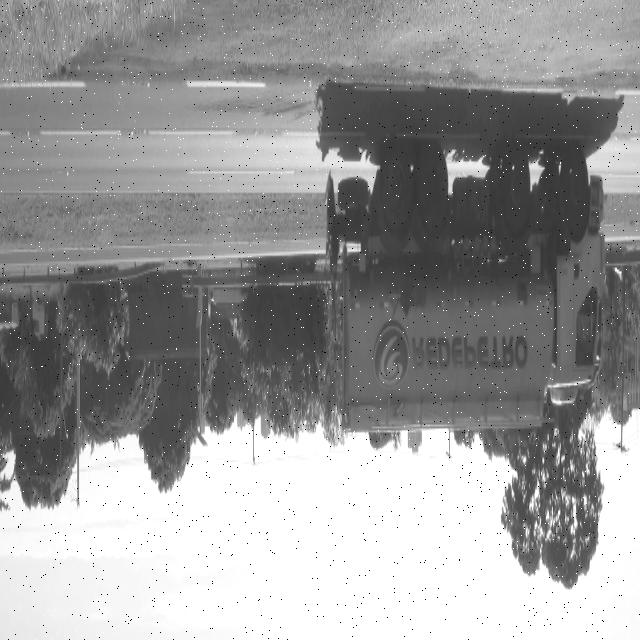-axle: (414, 142, 449, 228), (561, 144, 590, 238), (500, 151, 530, 236), (382, 146, 409, 234)
